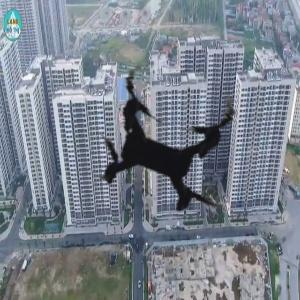drone: (34, 18, 292, 276)
